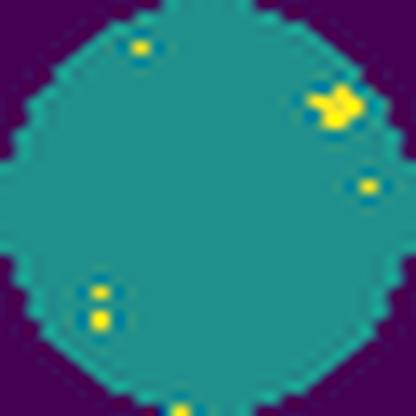Loc: (308, 85, 365, 130)
